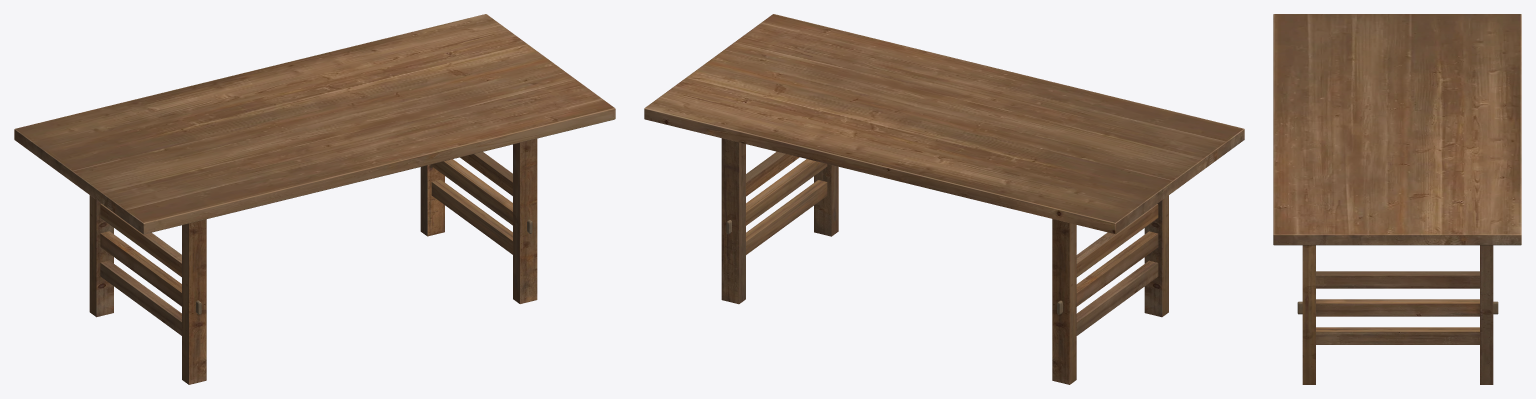
File: abo-B07B7BM55W.glb
3 views of the same model, side by side, from view 1: azimuth 30°, elevation 25°; view 2: azimuth 150°, elevation 25°; view 3: azimuth 270°, elevation 25° (orthographic). The views are drawn at different scales.
Size of the model in its own units: 2 by 0.76 by 0.952.
1 material, 1 textured.
